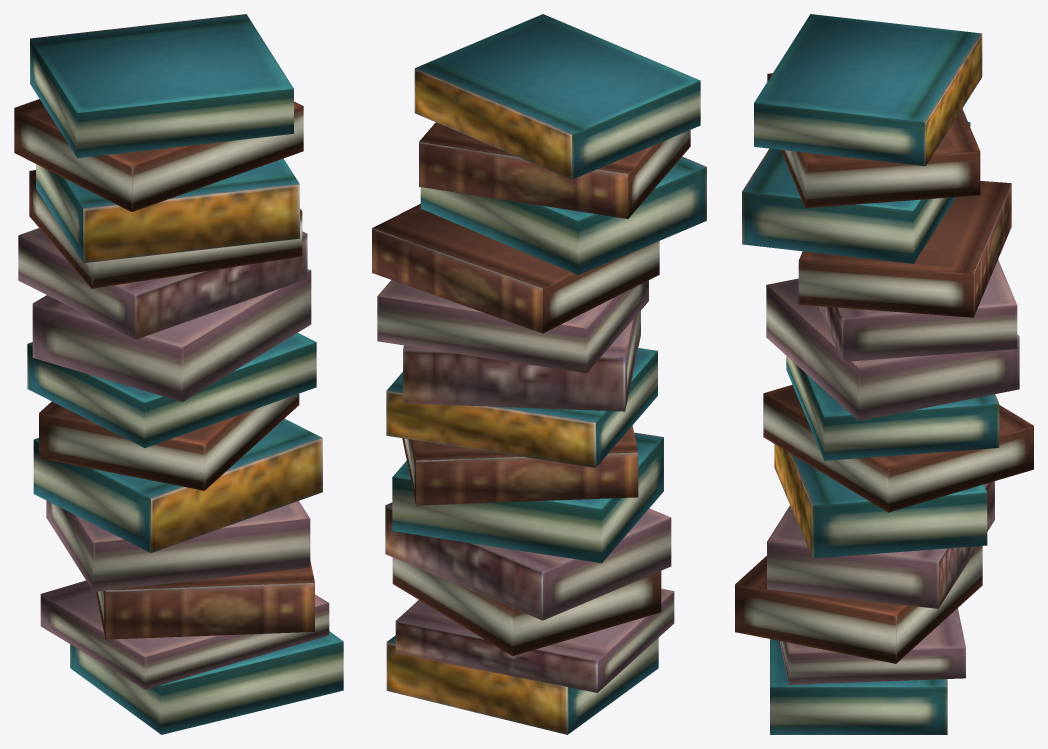
The model's file is a_book03.glb.
The picture shows the model from 3 angles, left to right: view 1: azimuth 30°, elevation 25°; view 2: azimuth 150°, elevation 25°; view 3: azimuth 270°, elevation 25°; orthographic projection. The views are drawn at different scales.
Visible parts, largest first — view 1: a_book03; view 2: a_book03; view 3: a_book03.
Part boxes in pixels (<box>): a_book03: <box>14,14,343,734</box>; a_book03: <box>372,14,706,734</box>; a_book03: <box>735,14,1033,734</box>.
Bounding box in the file's own units: 0.505 × 1.13 × 0.5059.
1 material, 1 textured.
